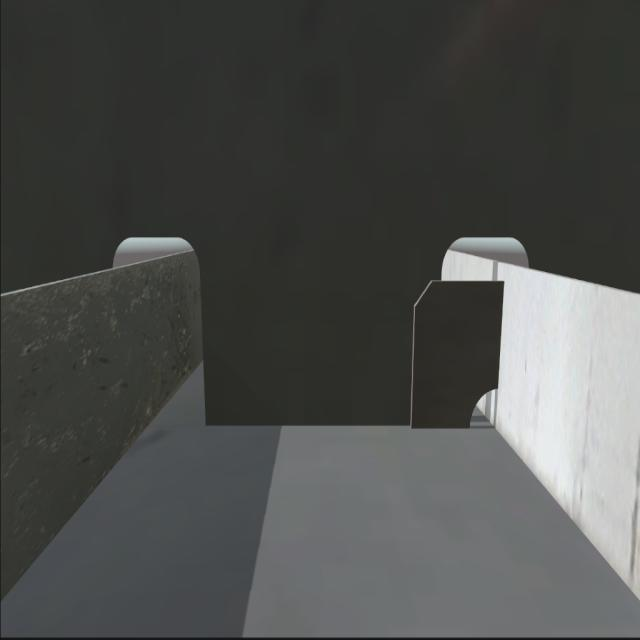fillet_hole: (470, 390, 498, 432)
fillet_yong_jeop_jang: (206, 411, 477, 439)
longi_yong_jeop_jang: (495, 270, 513, 395)
plate_CP03: (411, 275, 504, 432)
